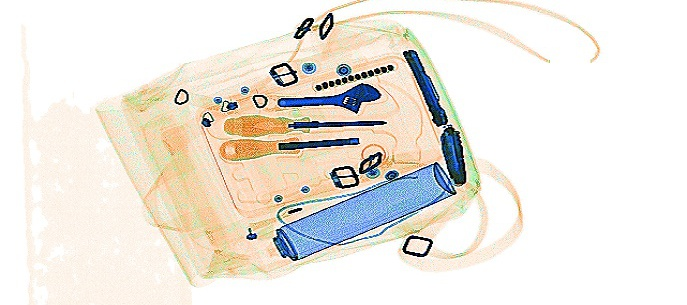knife: (400, 45, 449, 129), (439, 122, 467, 187)
pressure: (256, 159, 457, 264)
